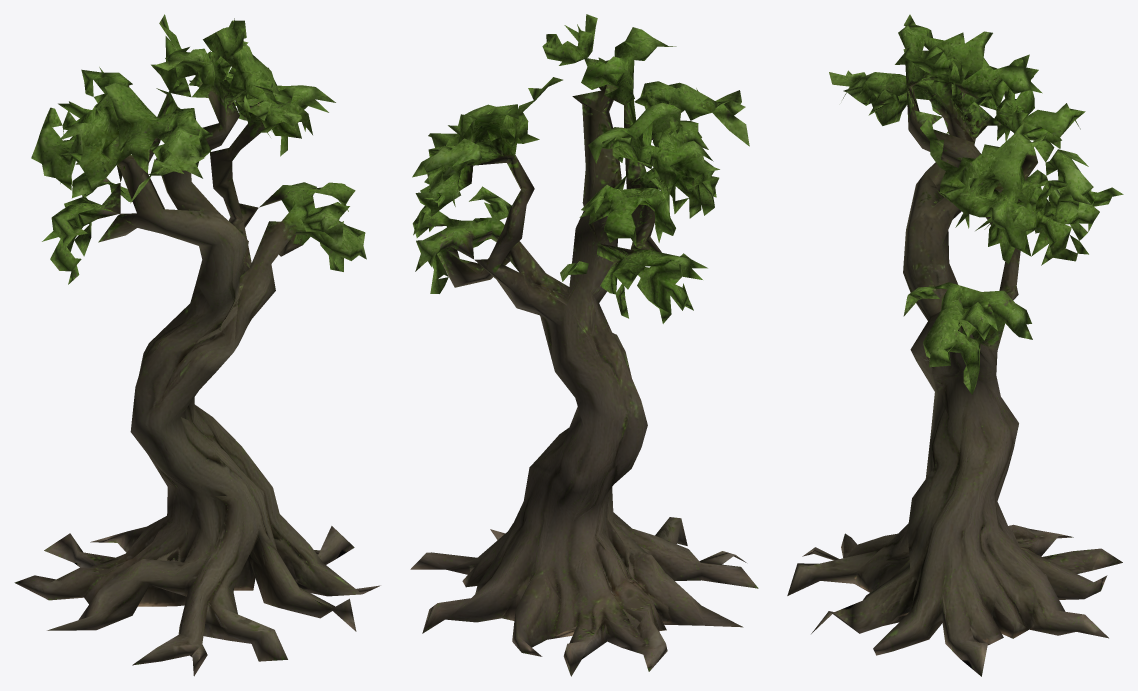
File: willow.glb
3 views of the same model, side by side, from view 1: azimuth 30°, elevation 25°; view 2: azimuth 150°, elevation 25°; view 3: azimuth 270°, elevation 25° (orthographic). The views are drawn at different scales.
Parts seen in each view (by area): view 1: Mesh1.0; view 2: Mesh1.0; view 3: Mesh1.0.
Boxes of the visible parts, <box> form: Mesh1.0: <box>14,14,380,676</box>; Mesh1.0: <box>410,14,758,676</box>; Mesh1.0: <box>787,14,1123,676</box>.
Bounding box in the file's own units: 1.05 × 1.78 × 0.9662.
1 material, 1 textured.
